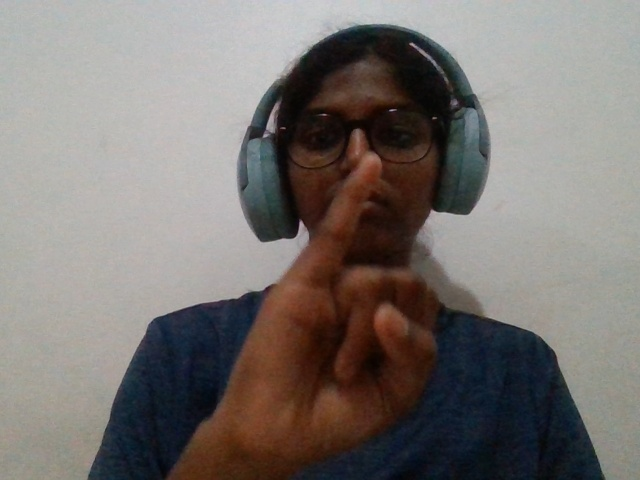I: (205, 139, 473, 470)
